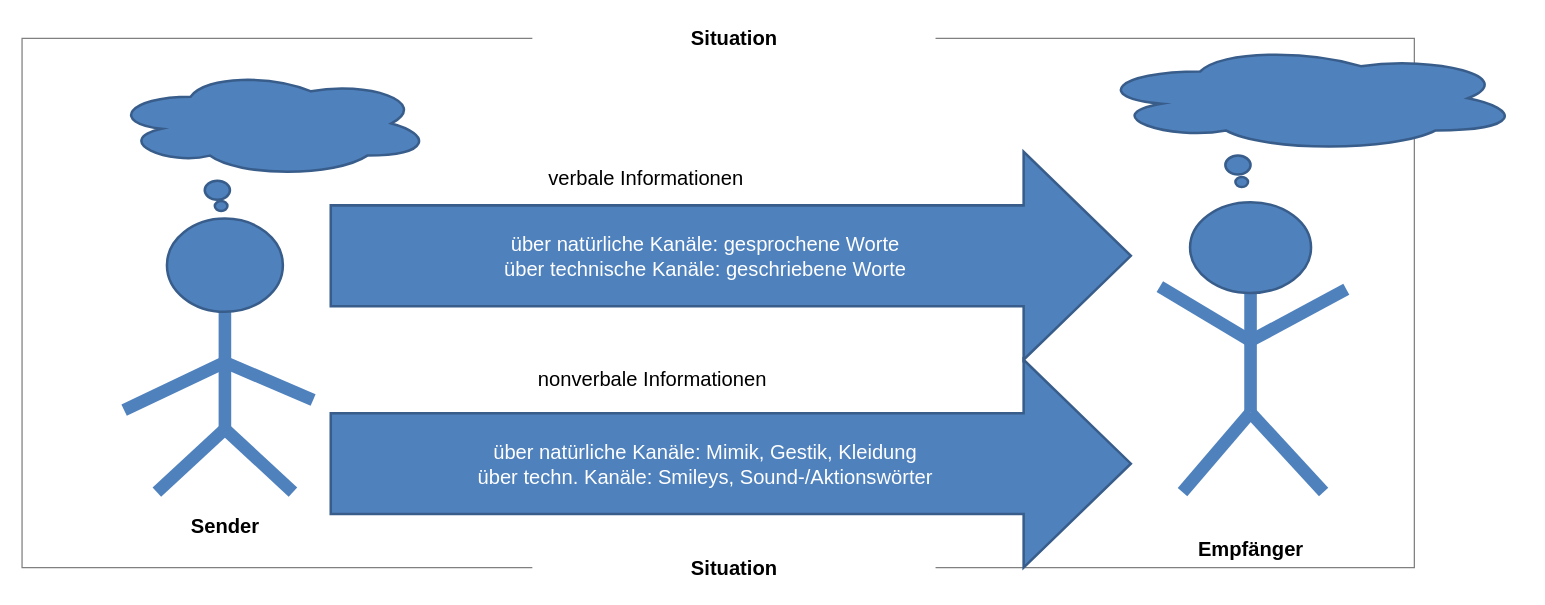
Some shapes in this 1545 by 605 pixel diagram are drawn without their labels. Here are the shapes that lost their labels. From the top down, the box of each, then its label:
(1091, 43, 1522, 152): Entschlüsselung
(108, 68, 432, 178): Intention
